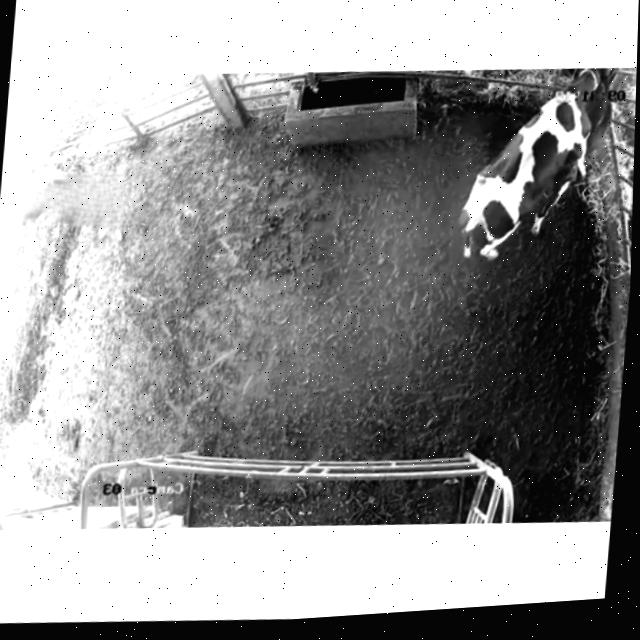ride: (436, 59, 619, 280)
